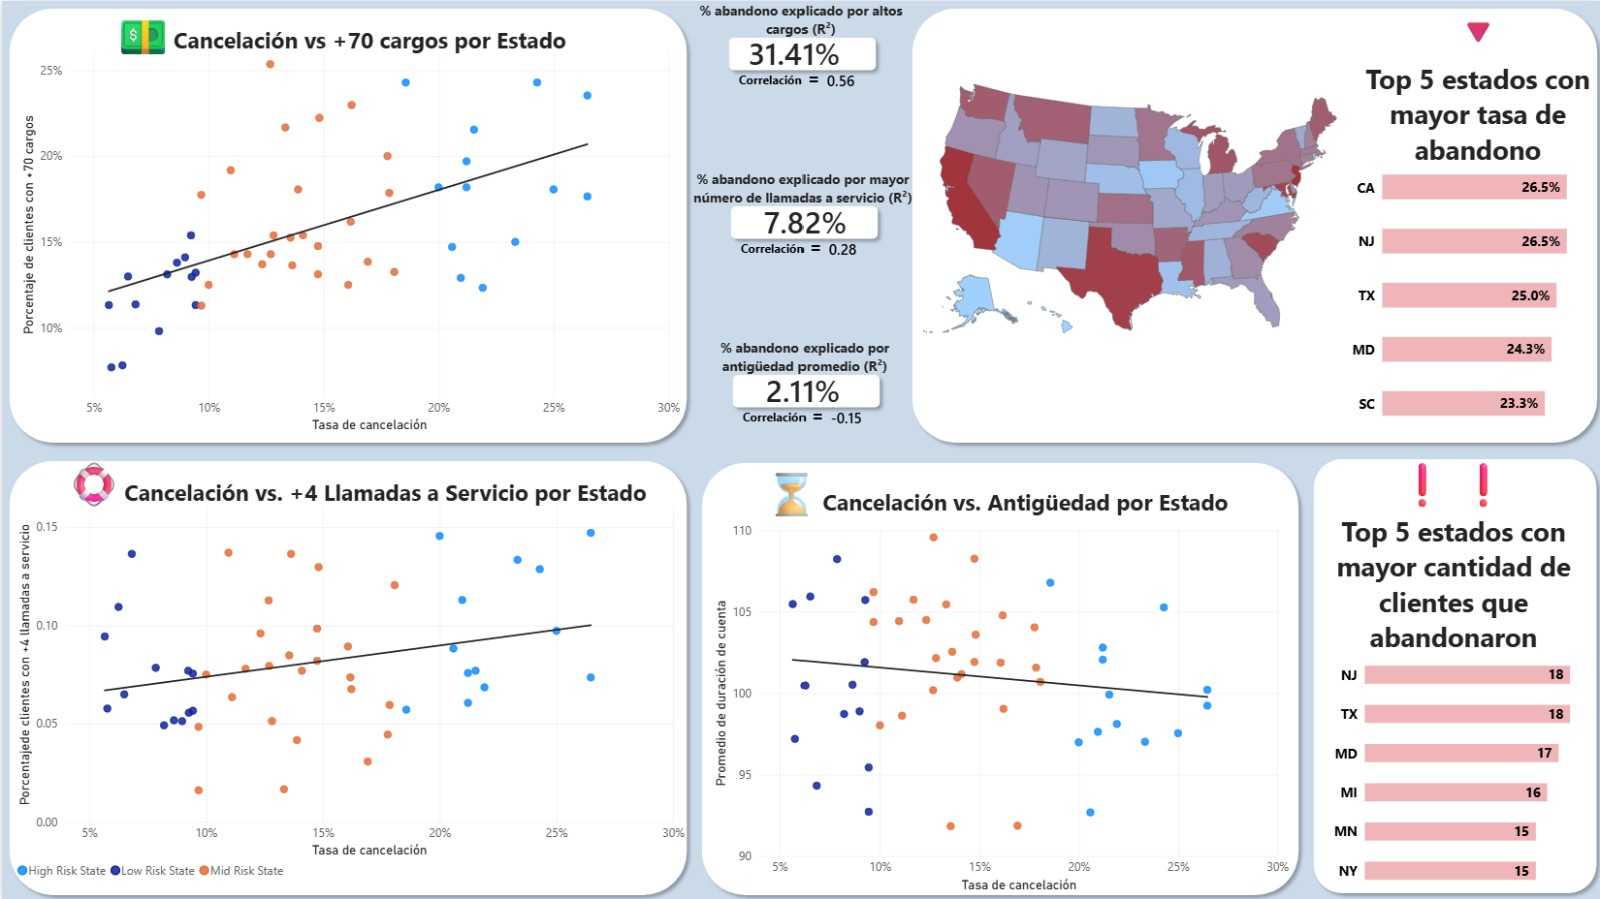

This screenshot's page, from the dashboard's own definition file:
{"tool":"powerbi","page":{"name":"Análisis de ubicación de abandono","canvas":[1920,1080],"ordinal":1},"visuals":[{"type":"shape","box":[1080.6,0,839.4,539.1],"z":0},{"type":"shape","box":[0,0,830.3,539.1],"z":1000},{"type":"shape","box":[864.1,35.7,192.9,57.3],"z":2000,"group":"g1"},{"type":"shape","box":[866.4,238.2,192.9,57.3],"z":2000,"group":"g3"},{"type":"shape","box":[868.7,440.6,192.9,57.3],"z":2000,"group":"g2"},{"type":"shape","box":[1562.8,539.1,357.2,539.1],"z":2000},{"type":"shapeMap","fields":{"Category":["Clientes.state"],"Value":["Clientes.Tasa de churn"]},"box":[1060.1,0,582.4,500.5],"z":3000},{"type":"cardVisual","fields":{"Data":["Clientes.R^2_tasa_cargos"]},"box":[880.2,18.3,192.9,87.5],"z":4000,"group":"g1"},{"type":"cardVisual","fields":{"Data":["Clientes.R^2_tasa_llamadas"]},"box":[898.6,220.7,192.9,87.5],"z":4000,"group":"g3"},{"type":"cardVisual","fields":{"Data":["Clientes.R^2_tasa_antiguedad"]},"box":[900.9,423.1,192.9,87.5],"z":4000,"group":"g2"},{"type":"shape","box":[830.3,543.7,732.5,536.9],"z":4000},{"type":"shape","box":[0,541.4,830.3,539.1],"z":5000},{"type":"textbox","box":[1610.6,0,313.9,243.4],"z":6000},{"type":"cardVisual","fields":{"Data":["Clientes.PEARSON_tasa_cargos"]},"box":[973.5,70.5,93.3,50],"z":6000,"group":"g1"},{"type":"cardVisual","fields":{"Data":["Clientes.PEARSON_tasa_llamadas"]},"box":[975.8,273,93.3,50],"z":6000,"group":"g3"},{"type":"cardVisual","fields":{"Data":["Clientes.PEARSON_tasa_antiguedad"]},"box":[978.1,475.4,93.3,50],"z":6000,"group":"g2"},{"type":"textbox","box":[823.5,0,268.4,55.7],"z":7000,"group":"g1"},{"type":"textbox","box":[825.8,202.5,268.4,55.7],"z":7000,"group":"g3"},{"type":"textbox","box":[828.1,404.9,268.4,55.7],"z":7000,"group":"g2"},{"type":"clusteredBarChart","fields":{"Category":["Clientes.state"],"Y":["Clientes.Clientes que abandonaron"]},"box":[1578.8,755.3,343.5,334.4],"z":7000},{"type":"textbox","box":[1578.8,541.4,320.8,318.5],"z":8000},{"type":"clusteredBarChart","fields":{"Category":["Clientes.state"],"Y":["Clientes.Tasa de churn"]},"box":[1599.2,161.5,320.8,382.2],"z":9000},{"type":"textbox","box":[0,0,816.7,93.3],"z":10000},{"type":"textbox","box":[11.4,541.4,823.5,92.1],"z":11000},{"type":"scatterChart","fields":{"Category":["Clientes.state"],"Series":["Clientes.state_risk"],"X":["Clientes.Tasa de churn"],"Y":["Clientes.Tasa de cargos >70"]},"box":[8,38.7,822.4,493.6],"z":12000},{"type":"scatterChart","fields":{"Category":["Clientes.state"],"Series":["Clientes.state_risk"],"X":["Clientes.Tasa de churn"],"Y":["Clientes.Tasa de plan internacional"]},"box":[2.3,584.6,832.6,489.1],"z":13000},{"type":"scatterChart","fields":{"Category":["Clientes.state"],"Series":["Clientes.state_risk"],"X":["Clientes.Tasa de churn"],"Y":["Clientes.account_length"]},"box":[837.2,608.5,721.1,474.3],"z":14000},{"type":"textbox","box":[830.3,552.8,718.9,75.1],"z":15000},{"type":"group","id":"g1","title":"Grupo 1","box":[823.5,0,268.4,129.7],"z":16000},{"type":"group","id":"g2","title":"Grupo 1","box":[828.1,404.9,268.4,127.4],"z":17001},{"type":"group","id":"g3","title":"Grupo 1","box":[825.8,202.5,268.4,127.4],"z":17002},{"type":"textbox","box":[846.1,77.3,175.2,52.3],"z":21001,"group":"g1"},{"type":"textbox","box":[848.4,279.8,175.2,52.3],"z":21001,"group":"g3"},{"type":"textbox","box":[850.7,482.2,175.2,52.3],"z":21001,"group":"g2"}]}

Visuals, with their boxes in screenshot pixels (x1, y1, x2, y2), scaled from the page's 1920x1080 canvas onto the 1600x899 screenshot:
shape: 900 0 1599 449
shape: 0 0 692 449
shape: 720 30 881 77
shape: 722 198 883 246
shape: 724 367 885 414
shape: 1302 449 1599 898
shapeMap - Clientes.state x Clientes.Tasa de churn: 883 0 1369 417
cardVisual - Clientes.R^2_tasa_cargos: 734 15 894 88
cardVisual - Clientes.R^2_tasa_llamadas: 749 184 910 257
cardVisual - Clientes.R^2_tasa_antiguedad: 751 352 912 425
shape: 692 453 1302 898
shape: 0 451 692 898
textbox: 1342 0 1599 203
cardVisual - Clientes.PEARSON_tasa_cargos: 811 59 889 100
cardVisual - Clientes.PEARSON_tasa_llamadas: 813 227 891 269
cardVisual - Clientes.PEARSON_tasa_antiguedad: 815 396 893 437
textbox: 686 0 910 46
textbox: 688 169 912 215
textbox: 690 337 914 383
clusteredBarChart - Clientes.state x Clientes.Clientes que abandonaron: 1316 629 1599 898
textbox: 1316 451 1583 716
clusteredBarChart - Clientes.state x Clientes.Tasa de churn: 1333 134 1599 453
textbox: 0 0 681 78
textbox: 10 451 696 527
scatterChart - Clientes.state x Clientes.state_risk: 7 32 692 443
scatterChart - Clientes.state x Clientes.state_risk: 2 487 696 894
scatterChart - Clientes.state x Clientes.state_risk: 698 507 1299 898
textbox: 692 460 1291 523
"Grupo 1" group: 686 0 910 108
"Grupo 1" group: 690 337 914 443
"Grupo 1" group: 688 169 912 275
textbox: 705 64 851 108
textbox: 707 233 853 276
textbox: 709 401 855 445
